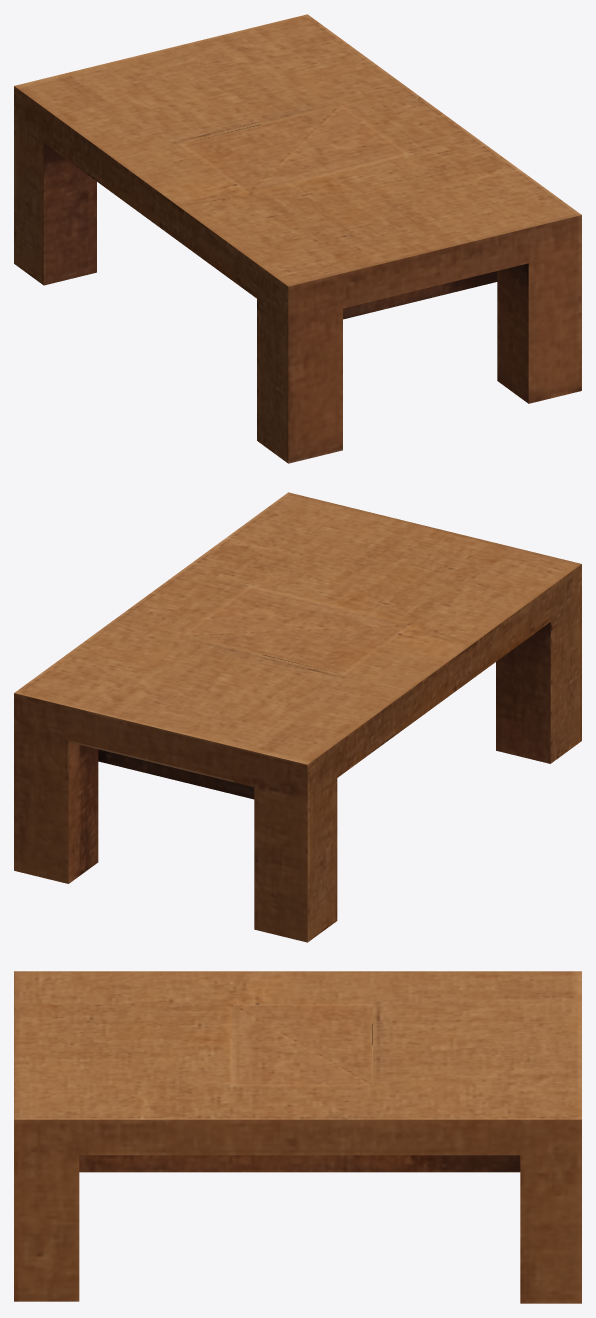
3 views of the same model, one above another, from view 1: azimuth 30°, elevation 25°; view 2: azimuth 150°, elevation 25°; view 3: azimuth 270°, elevation 25° (orthographic). The views are drawn at different scales.
Visible parts, largest first — view 1: Node; view 2: Node; view 3: Node.
Boxes of the visible parts, left/top/right/bottom form: Node: left=14, top=14, right=581, bottom=463; Node: left=14, top=492, right=581, bottom=942; Node: left=14, top=971, right=581, bottom=1303.
Bounding box in the file's own units: 0.4326 × 0.2503 × 0.7.
Materials: 1 (1 with a texture image).
